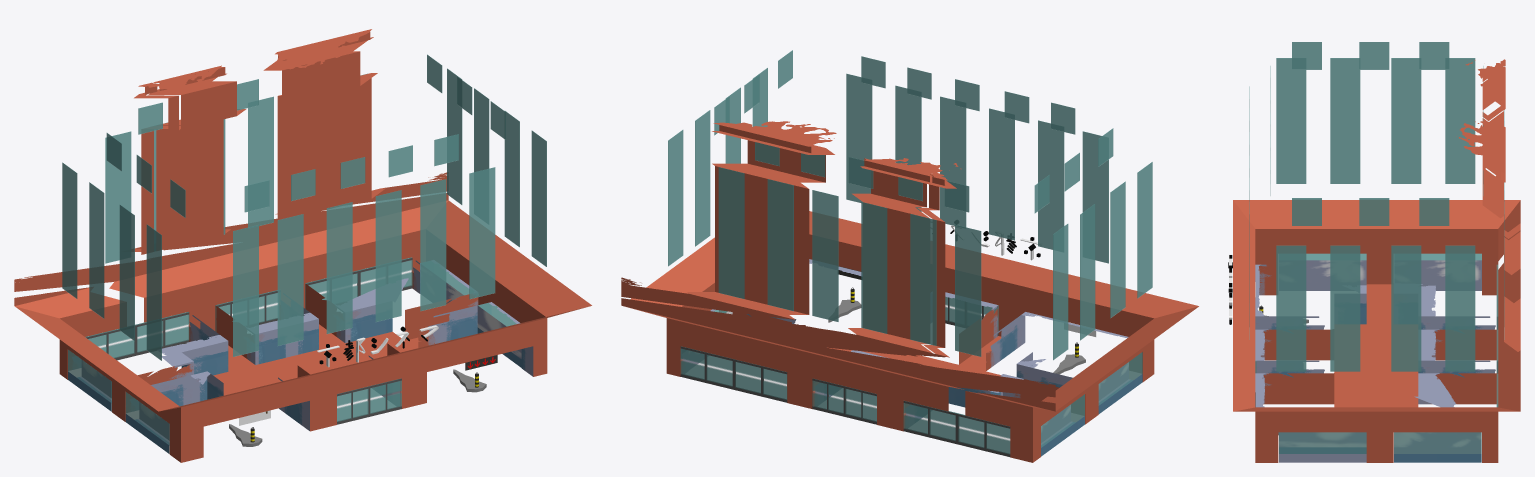
Rendered from Cinema.fbx.
The picture shows the model from 3 angles, left to right: view 1: azimuth 30°, elevation 25°; view 2: azimuth 150°, elevation 25°; view 3: azimuth 270°, elevation 25°; orthographic projection.
Visible parts, largest first — view 1: cinema, window3, window, window4, window2, window5, door8, door1, door5, window7, window8, door4 (+5 smaller); view 2: cinema, window2, window3, window, window4, window5, door8, door7, window6, door6, door5, window7 (+2 smaller); view 3: cinema, window4, window, door, door2, window7, window8, door5, door4.
Part boxes in pixels (box(x1,y1,x2,y2)): cinema: box(14, 29, 591, 462); window3: box(233, 167, 495, 356); window: box(62, 162, 161, 360); window4: box(447, 68, 546, 266); window2: box(105, 73, 367, 263); window5: box(244, 134, 458, 212); door8: box(85, 312, 189, 360); door1: box(337, 378, 401, 424); door5: box(125, 392, 169, 453); window7: box(106, 133, 185, 217); window8: box(427, 54, 505, 139); door4: box(68, 349, 111, 411); cinema: box(621, 121, 1198, 462); window2: box(718, 167, 981, 356); window3: box(846, 73, 1108, 263); window: box(1053, 162, 1152, 360); window4: box(668, 68, 767, 266); window5: box(861, 56, 1075, 134); door8: box(903, 401, 1010, 456); door7: box(680, 346, 787, 402); window6: box(755, 142, 969, 212); door6: box(812, 378, 876, 424); door5: box(1098, 352, 1142, 413); window7: box(1034, 128, 1113, 213); cinema: box(1233, 59, 1520, 462); window4: box(1276, 245, 1475, 371); window: box(1276, 58, 1475, 183); door: box(1279, 432, 1366, 462); door2: box(1394, 432, 1481, 462); window7: box(1292, 42, 1449, 69); window8: box(1292, 198, 1449, 225); door5: box(1306, 253, 1366, 290); door4: box(1421, 253, 1481, 290).
Bounding box in the file's own units: 8 × 4.7 × 4.67.
